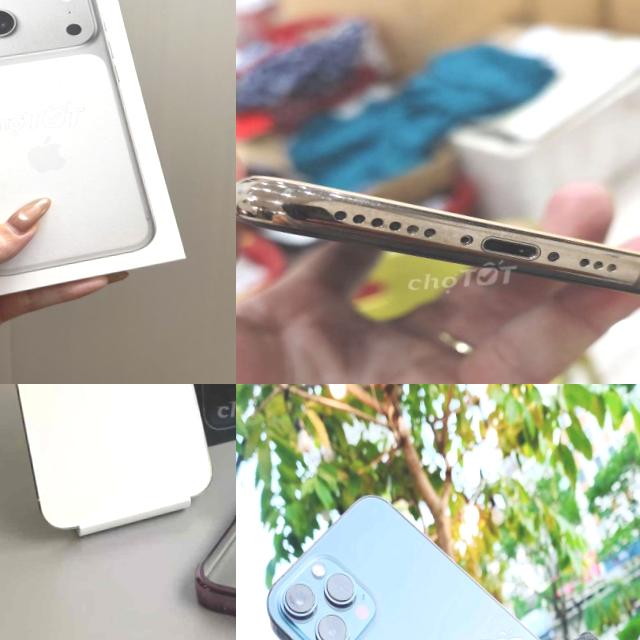gen_11: (236, 176, 640, 295)
gen_12_13: (258, 470, 640, 640), (0, 384, 224, 538)
gen_17: (0, 0, 170, 286)
